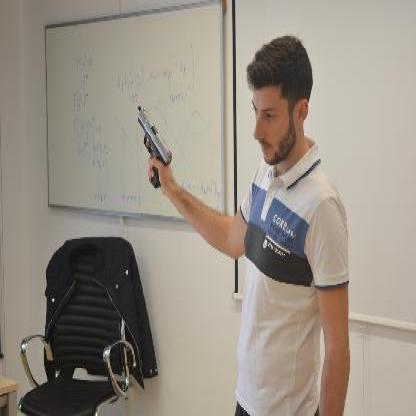pistol: (136, 105, 172, 188)
